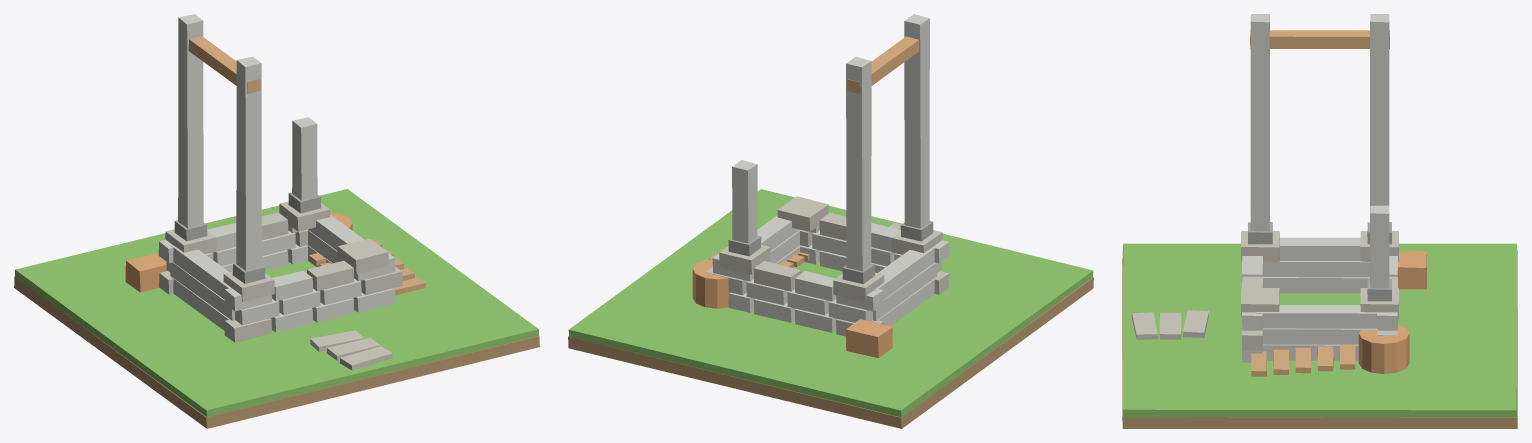
The model's file is tower_l05_construction_LOD2.glb.
3 renders of one model, left to right at view 1: azimuth 30°, elevation 25°; view 2: azimuth 150°, elevation 25°; view 3: azimuth 270°, elevation 25°, orthographic. The views are drawn at different scales.
Parts seen in each view (by area): view 1: tower_l05_grass_tile_tower_l05_construction_LOD2_tmp, tower_l05_earth_tile_tower_l05_construction_LOD2_tmp, post_-0.61_-0.54_tower_l05_construction_LOD2_tmp, post_-0.61_0.54_tower_l05_construction_LOD2_tmp, post_0.61_0.54_tower_l05_construction_LOD2_tmp, stone_return_2_-0.72_tower_l05_construction_LOD2_tmp, temporary_crossbar_tower_l05_construction_LOD2_tmp, foot_0.61_-0.54_tower_l05_construction_LOD2_tmp, unmounted_instrument_case_tower_l05_construction_LOD2_tmp, stone_course_2_-1_2_tower_l05_construction_LOD2_tmp, stone_return_1_-0.72_tower_l05_construction_LOD2_tmp, stone_return_2_0.72_tower_l05_construction_LOD2_tmp (+20 smaller); view 2: tower_l05_grass_tile_tower_l05_construction_LOD2_tmp, tower_l05_earth_tile_tower_l05_construction_LOD2_tmp, post_-0.61_0.54_tower_l05_construction_LOD2_tmp, post_-0.61_-0.54_tower_l05_construction_LOD2_tmp, post_0.61_0.54_tower_l05_construction_LOD2_tmp, unmounted_instrument_case_tower_l05_construction_LOD2_tmp, stone_return_2_-0.72_tower_l05_construction_LOD2_tmp, unmounted_relay_drum_tower_l05_construction_LOD2_tmp, temporary_crossbar_tower_l05_construction_LOD2_tmp, foot_0.61_-0.54_tower_l05_construction_LOD2_tmp, stone_course_2_1_2_tower_l05_construction_LOD2_tmp, stone_return_1_-0.72_tower_l05_construction_LOD2_tmp (+15 smaller); view 3: tower_l05_grass_tile_tower_l05_construction_LOD2_tmp, tower_l05_earth_tile_tower_l05_construction_LOD2_tmp, post_-0.61_-0.54_tower_l05_construction_LOD2_tmp, post_-0.61_0.54_tower_l05_construction_LOD2_tmp, stone_return_2_0.72_tower_l05_construction_LOD2_tmp, unmounted_relay_drum_tower_l05_construction_LOD2_tmp, stone_return_2_-0.72_tower_l05_construction_LOD2_tmp, temporary_crossbar_tower_l05_construction_LOD2_tmp, stone_return_1_-0.72_tower_l05_construction_LOD2_tmp, post_0.61_0.54_tower_l05_construction_LOD2_tmp, stone_return_1_0.72_tower_l05_construction_LOD2_tmp, stone_return_0_-0.72_tower_l05_construction_LOD2_tmp (+20 smaller).
Part boxes in pixels (x1,y1,x2,y2): tower_l05_grass_tile_tower_l05_construction_LOD2_tmp: (14,189,539,417); tower_l05_earth_tile_tower_l05_construction_LOD2_tmp: (14,277,539,428); post_-0.61_-0.54_tower_l05_construction_LOD2_tmp: (236,56,261,270); post_-0.61_0.54_tower_l05_construction_LOD2_tmp: (178,14,203,228); post_0.61_0.54_tower_l05_construction_LOD2_tmp: (292,117,317,200); stone_return_2_-0.72_tower_l05_construction_LOD2_tmp: (171,244,231,299); temporary_crossbar_tower_l05_construction_LOD2_tmp: (188,36,260,93); foot_0.61_-0.54_tower_l05_construction_LOD2_tmp: (337,239,388,274); unmounted_instrument_case_tower_l05_construction_LOD2_tmp: (125,253,167,292); stone_course_2_-1_2_tower_l05_construction_LOD2_tmp: (307,261,353,291); stone_return_1_-0.72_tower_l05_construction_LOD2_tmp: (170,262,234,320); stone_return_2_0.72_tower_l05_construction_LOD2_tmp: (308,215,364,250); tower_l05_grass_tile_tower_l05_construction_LOD2_tmp: (568,189,1093,417); tower_l05_earth_tile_tower_l05_construction_LOD2_tmp: (568,277,1093,428); post_-0.61_0.54_tower_l05_construction_LOD2_tmp: (846,56,871,271); post_-0.61_-0.54_tower_l05_construction_LOD2_tmp: (904,14,929,228); post_0.61_0.54_tower_l05_construction_LOD2_tmp: (732,160,757,243); unmounted_instrument_case_tower_l05_construction_LOD2_tmp: (845,319,892,358); stone_return_2_-0.72_tower_l05_construction_LOD2_tmp: (873,247,934,299); unmounted_relay_drum_tower_l05_construction_LOD2_tmp: (692,259,730,308); temporary_crossbar_tower_l05_construction_LOD2_tmp: (847,36,918,93); foot_0.61_-0.54_tower_l05_construction_LOD2_tmp: (777,196,828,231); stone_course_2_1_2_tower_l05_construction_LOD2_tmp: (753,261,801,291); stone_return_1_-0.72_tower_l05_construction_LOD2_tmp: (873,262,937,320); tower_l05_grass_tile_tower_l05_construction_LOD2_tmp: (1123,243,1516,417); tower_l05_earth_tile_tower_l05_construction_LOD2_tmp: (1122,250,1517,428); post_-0.61_-0.54_tower_l05_construction_LOD2_tmp: (1250,14,1269,231); post_-0.61_0.54_tower_l05_construction_LOD2_tmp: (1370,14,1389,211); stone_return_2_0.72_tower_l05_construction_LOD2_tmp: (1256,305,1377,328); unmounted_relay_drum_tower_l05_construction_LOD2_tmp: (1358,324,1409,373); stone_return_2_-0.72_tower_l05_construction_LOD2_tmp: (1279,237,1360,260); temporary_crossbar_tower_l05_construction_LOD2_tmp: (1250,30,1389,48); stone_return_1_-0.72_tower_l05_construction_LOD2_tmp: (1263,261,1369,277); post_0.61_0.54_tower_l05_construction_LOD2_tmp: (1370,205,1389,288); stone_return_1_0.72_tower_l05_construction_LOD2_tmp: (1262,328,1377,344); stone_return_0_-0.72_tower_l05_construction_LOD2_tmp: (1263,277,1369,293).
Bounding box in the file's own units: 3.57 × 2.98 × 3.57.
